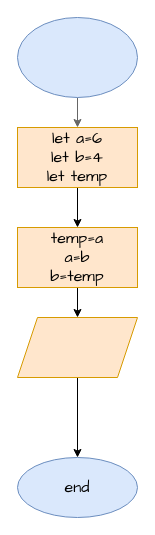
Some shapes in this 155 by 535 pixel diagram are drawn without their labels. Each missing label, with the centre of its shape:
"log a,b" belongs at pixel 77 347.
"start" belongs at pixel 77 57.
